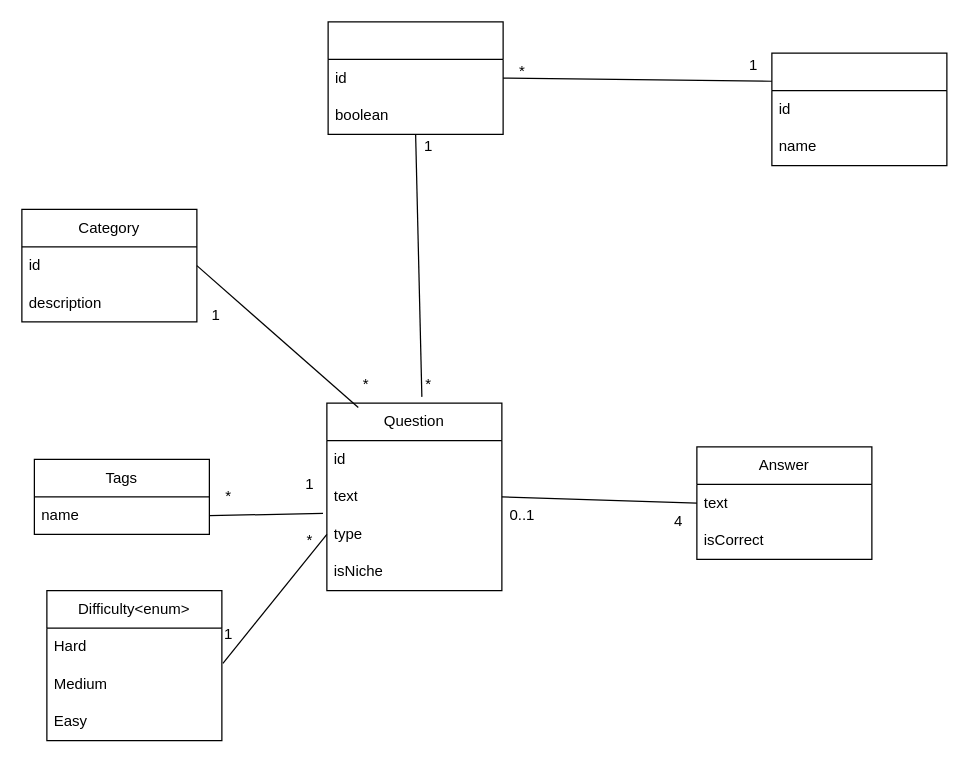
This 969x763 diagram has some shape labels left out. The shapes that lost their labels are listed below. From the top down, each one's box as (x1, y1, x2, y2) in pixels, then its label:
(327, 21, 503, 134): Game
(771, 52, 947, 166): Player
